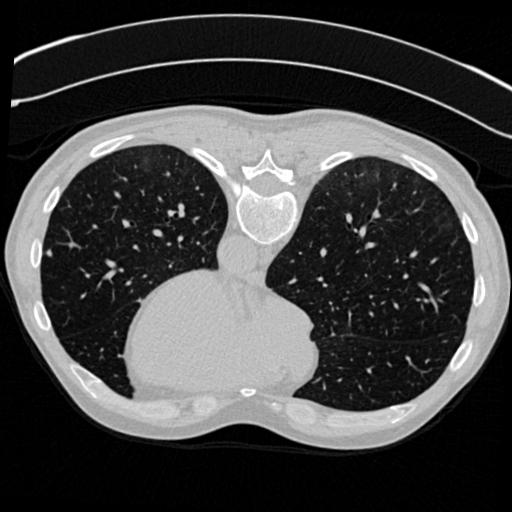nodule: (44, 247, 57, 260)
